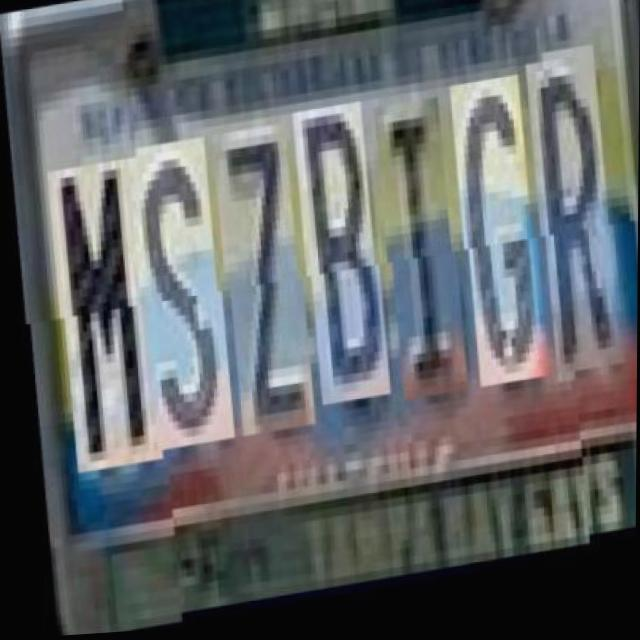b: (291, 112, 383, 418)
g: (450, 91, 542, 405)
i: (372, 110, 461, 416)
m: (46, 153, 152, 469)
r: (525, 73, 621, 404)
s: (126, 142, 228, 458)
z: (212, 132, 309, 446)
